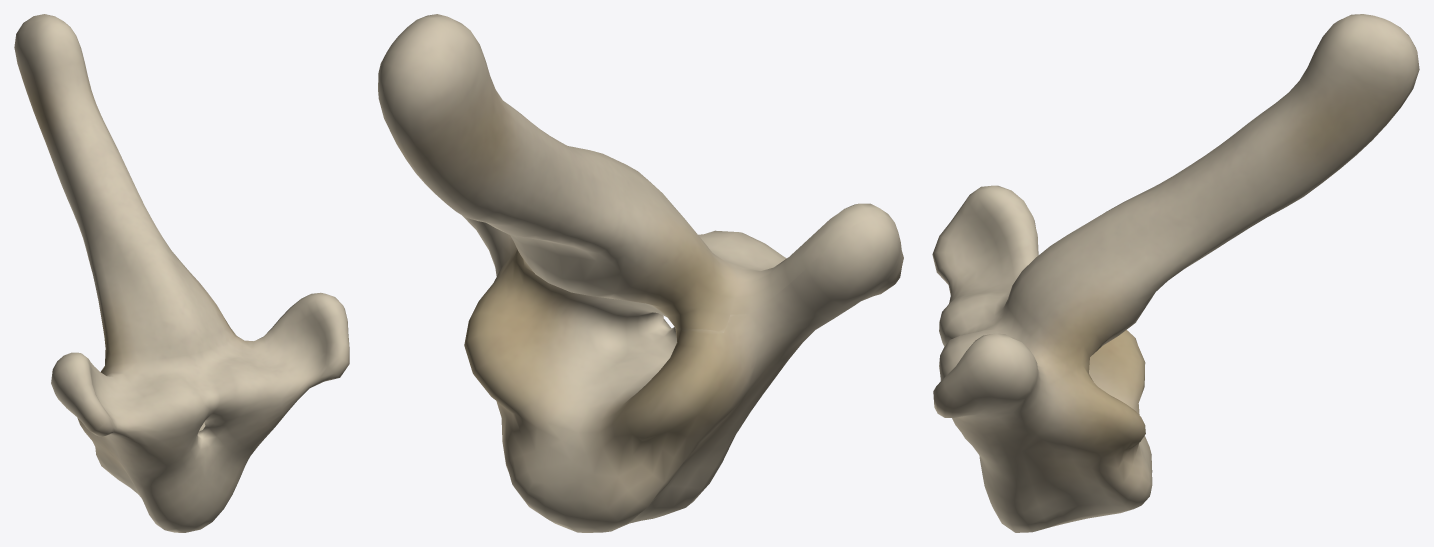
File: vertebrae thoracicae 08.fbx
3 views of the same model, side by side, from view 1: azimuth 30°, elevation 25°; view 2: azimuth 150°, elevation 25°; view 3: azimuth 270°, elevation 25° (orthographic). The views are drawn at different scales.
Visible parts, largest first — view 1: vertebrae thoracicae 08; view 2: vertebrae thoracicae 08; view 3: vertebrae thoracicae 08.
Part boxes in pixels (box(x1,y1,x2,y2)): vertebrae thoracicae 08: box(14, 14, 349, 532); vertebrae thoracicae 08: box(378, 14, 903, 532); vertebrae thoracicae 08: box(932, 14, 1419, 532).
Bounding box in the file's own units: 8.53 × 11.67 × 10.14.
